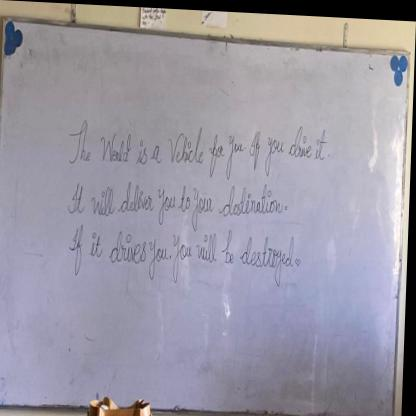Handwritten text: (62, 105, 330, 182), (58, 221, 298, 298), (67, 170, 285, 235)
Whiteboard: (0, 16, 410, 416)
